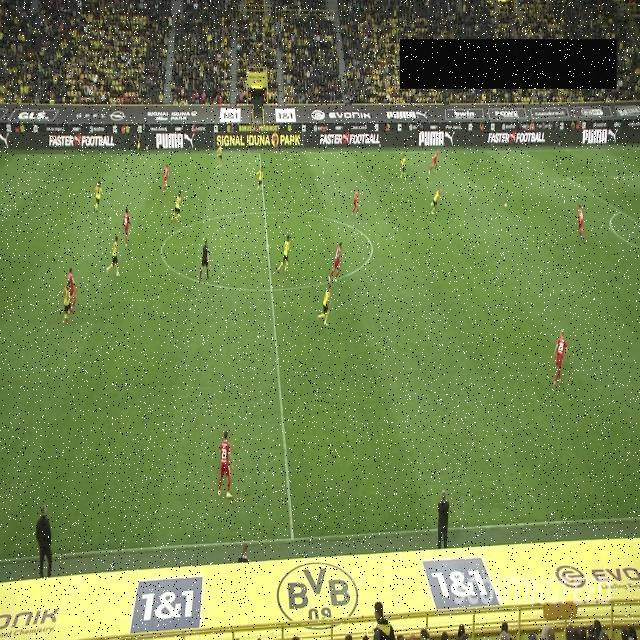Ball: (504, 201, 508, 209)
Referee: (198, 238, 210, 282), (134, 128, 142, 155)
TEAM 1: (218, 430, 234, 498), (553, 329, 569, 387), (328, 241, 342, 283), (67, 266, 79, 314), (122, 208, 132, 246), (428, 148, 439, 174), (351, 186, 359, 218), (162, 163, 170, 193), (578, 204, 584, 242)
TEAM 2: (316, 282, 332, 326), (106, 236, 120, 276), (278, 234, 290, 274), (170, 190, 183, 222), (62, 284, 70, 324), (431, 190, 443, 216), (94, 180, 102, 214), (255, 165, 264, 192), (399, 152, 406, 181), (217, 144, 223, 168)
